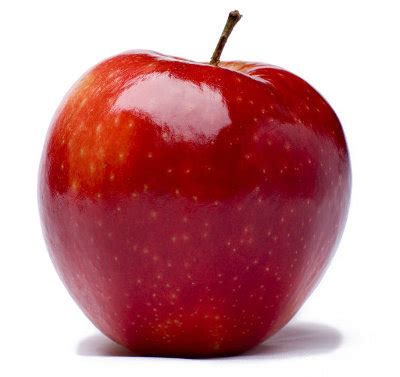apple: (32, 42, 354, 360)
